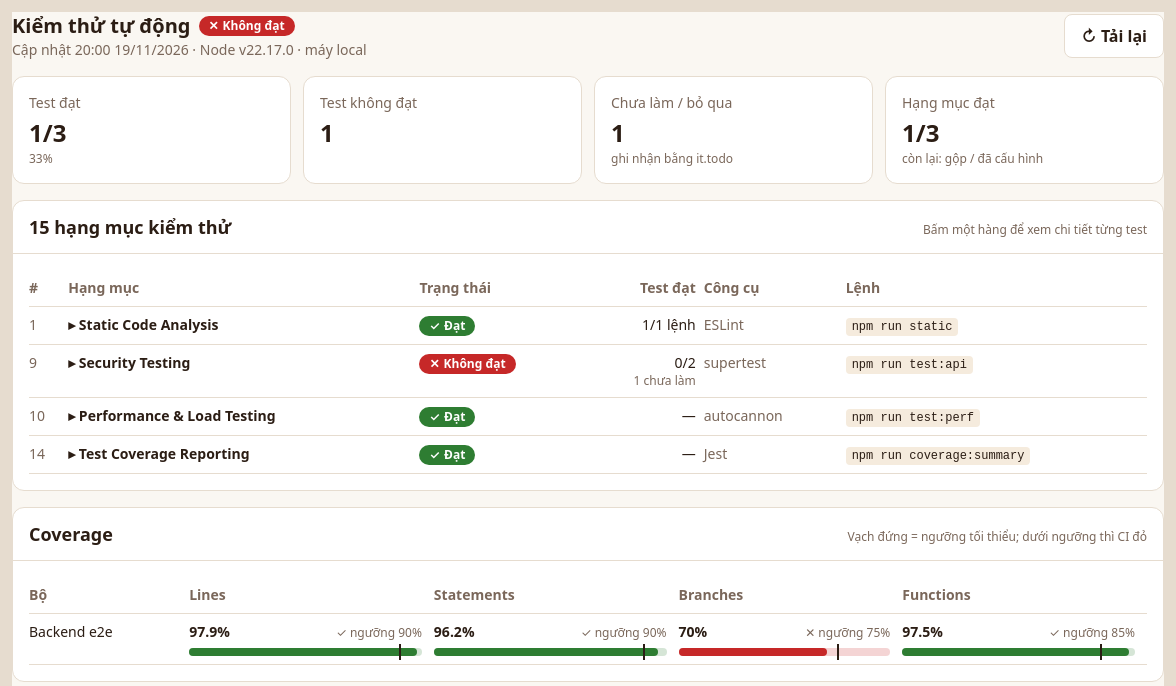
Test: Trang báo cáo kiểm thử (/quality) › hạng mục chạy bằng lệnh: hiện số lệnh đạt, mở xem output; ô tìm lọc test theo tên
expect the text "1/1 lệnh" is shown: met, box [589, 306, 704, 344]
Click the button "▸ Static Code Analysis" at (143, 325), box [68, 315, 218, 335]
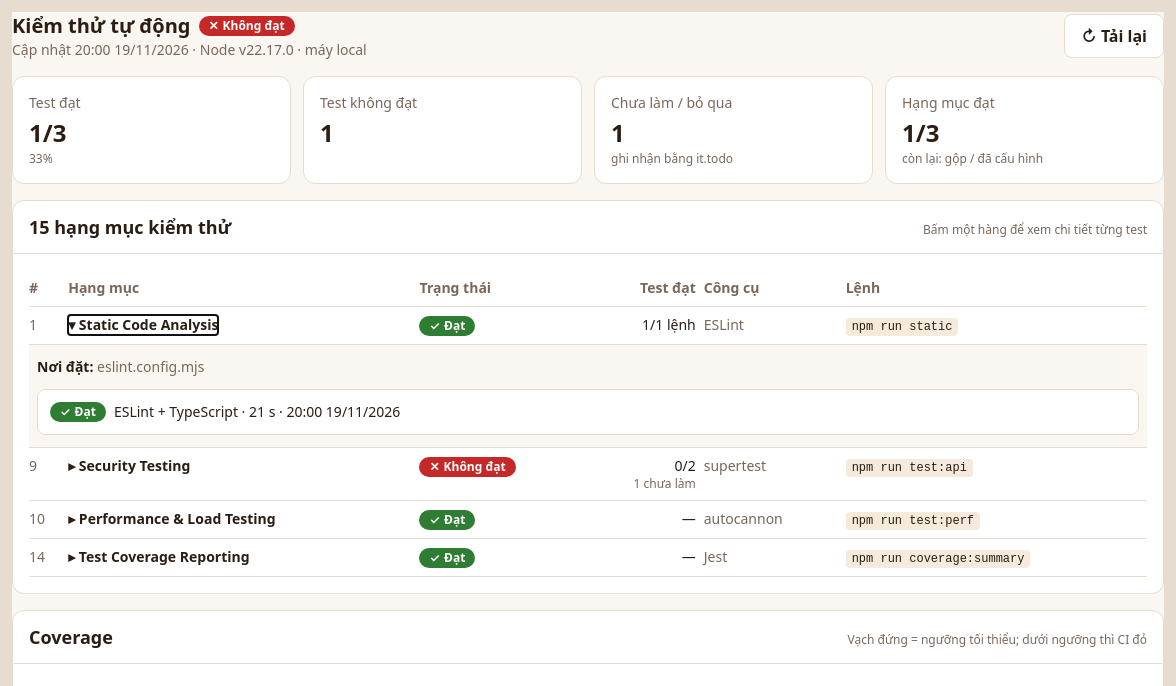
expect the heading "✓ Đạt ESLint + TypeScript · 21 s · 20:00 19/11/2026" is shown: met, box [50, 402, 400, 422]
Click the button "▸ Security Testing" at (129, 466), box [68, 456, 190, 476]
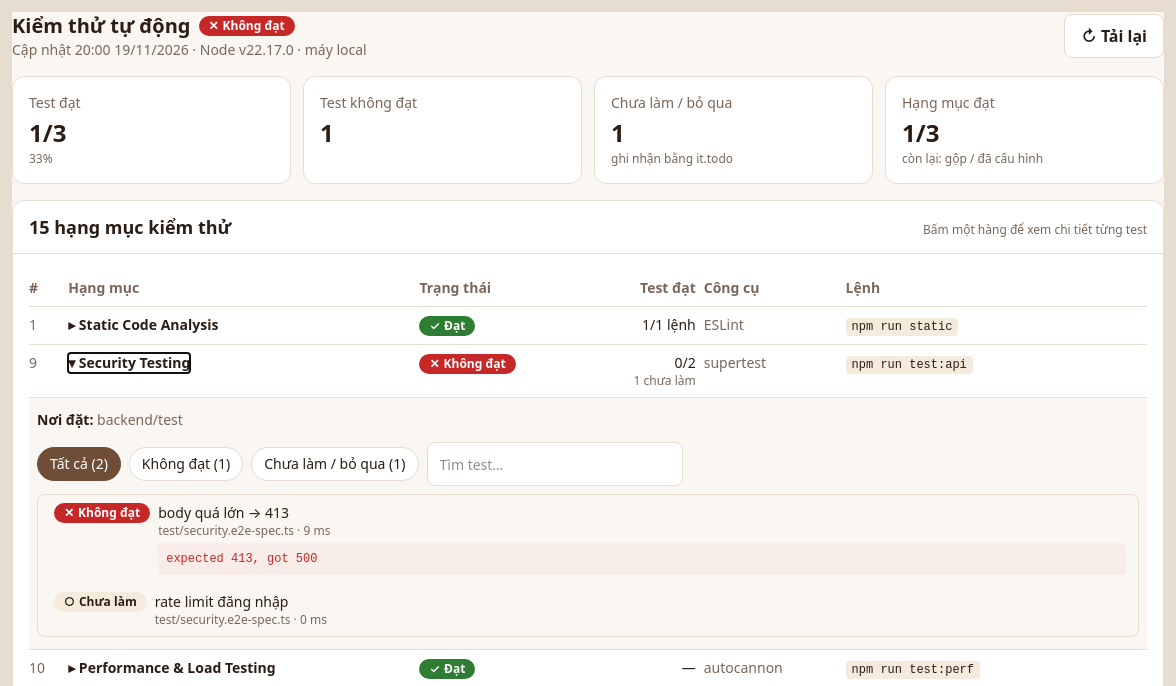
Type "rate" into the field labelled "Tìm test" at (554, 464), box [426, 442, 682, 486]
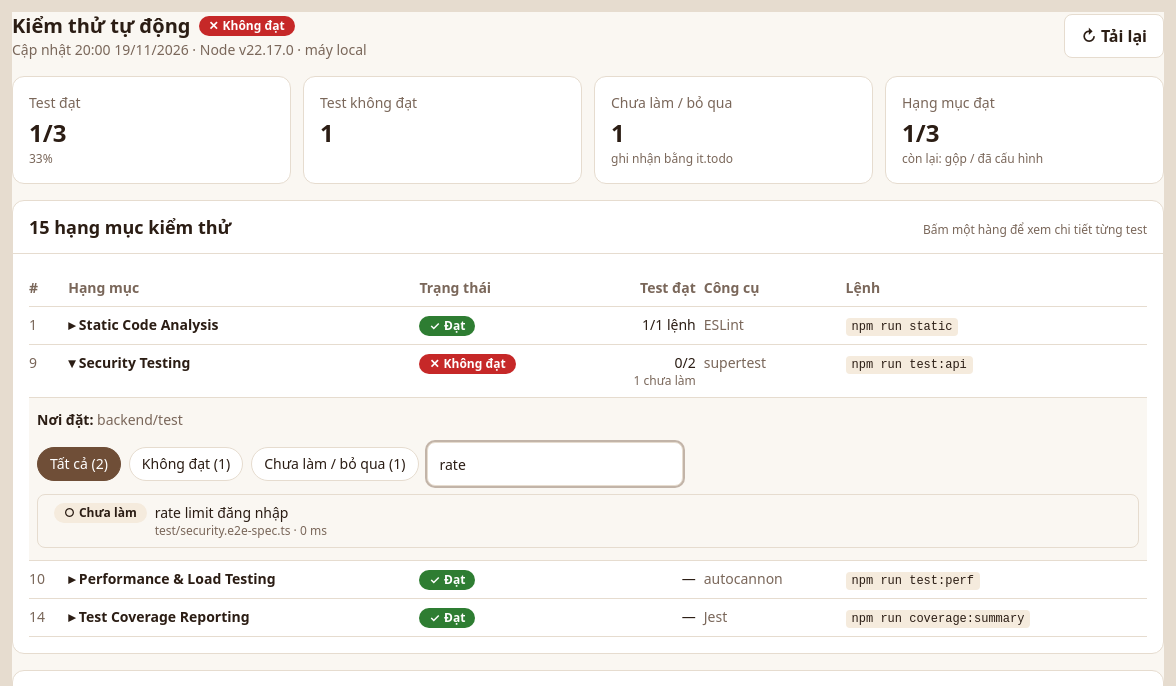
expect the text "rate limit đăng nhập" is shown: met, box [155, 503, 288, 522]
expect the text "body quá lớn → 413" is gone: met
Type "zzz" into the field named "Tìm test" at (554, 464), box [426, 442, 682, 486]
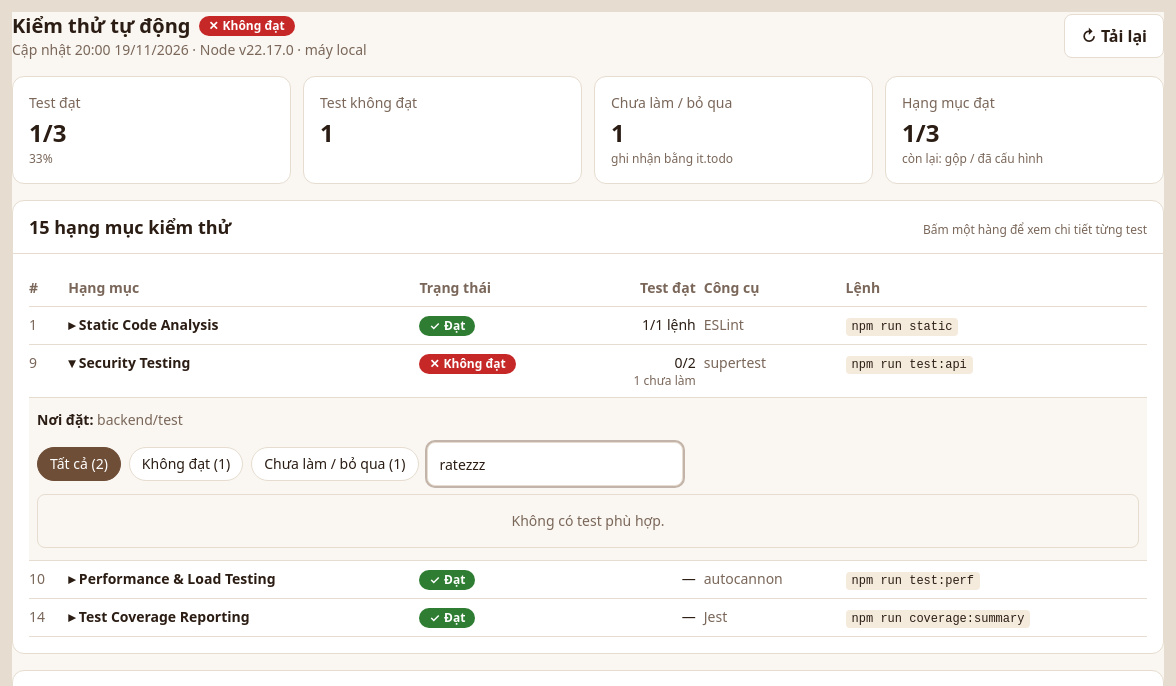
expect the list item "Không có test phù hợp." is shown: met, box [512, 511, 665, 530]
Click the button "▸ Performance & Load Testing" at (172, 579), box [68, 569, 276, 589]
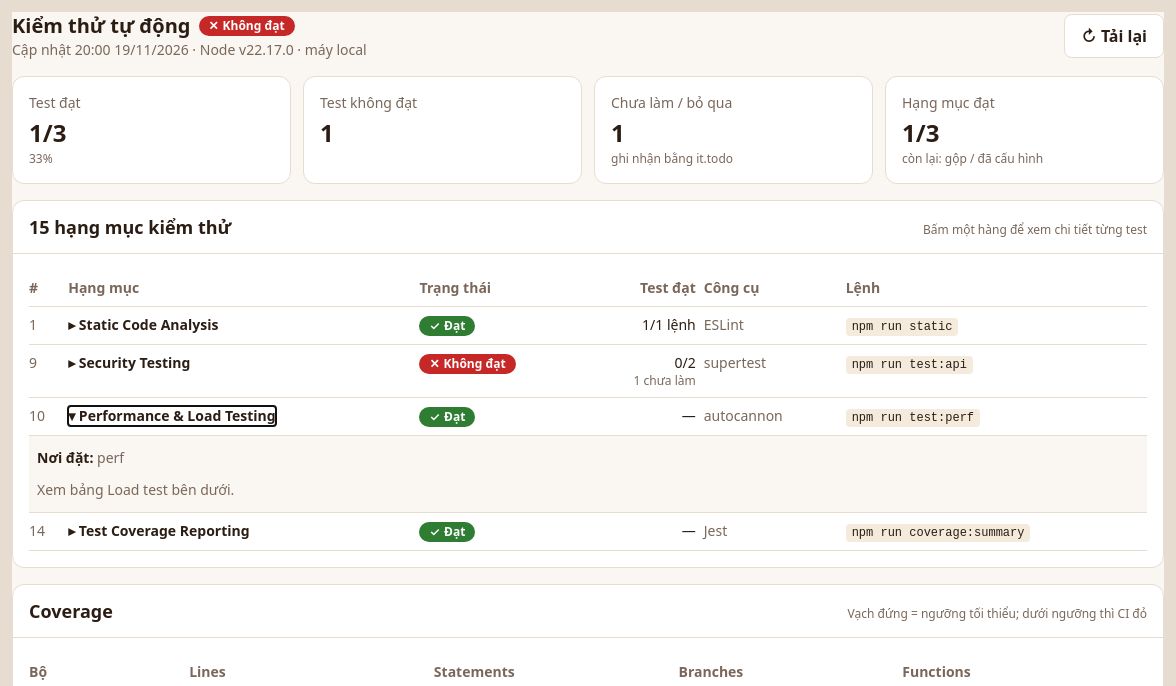
expect the text "Xem bảng Load test bên dưới." is shown: met, box [37, 480, 234, 499]
Click the button "▸ Test Coverage Reporting" at (159, 531), box [68, 521, 250, 541]
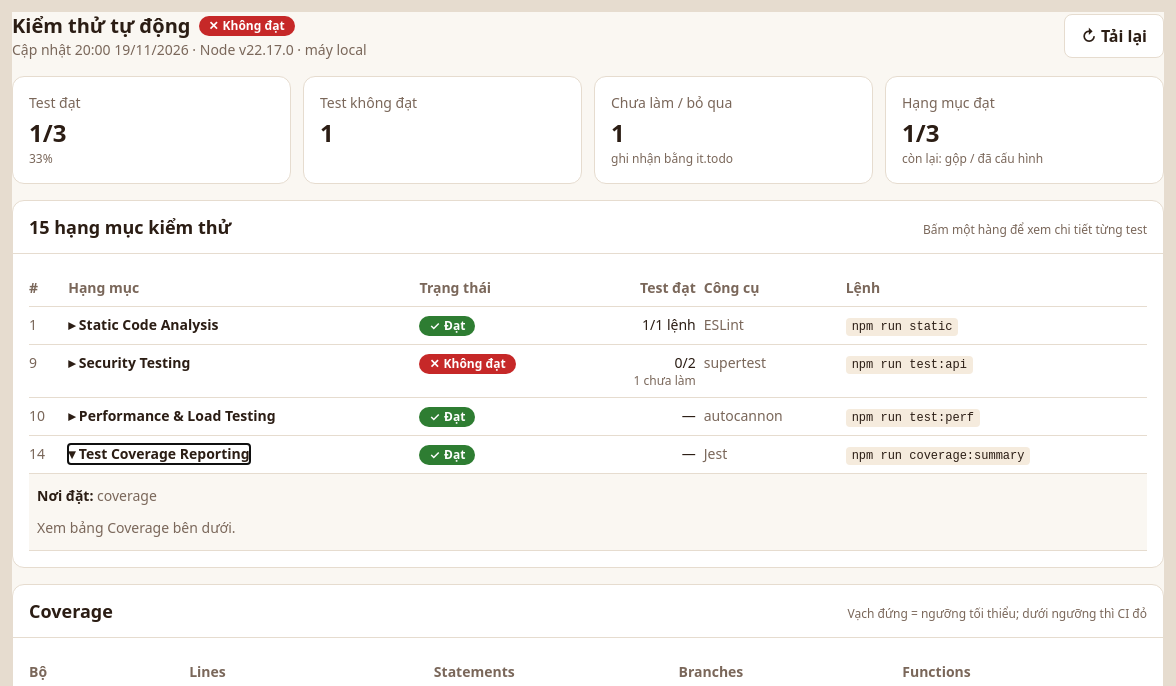
expect the text "Xem bảng Coverage bên dưới." is shown: met, box [37, 518, 236, 537]
